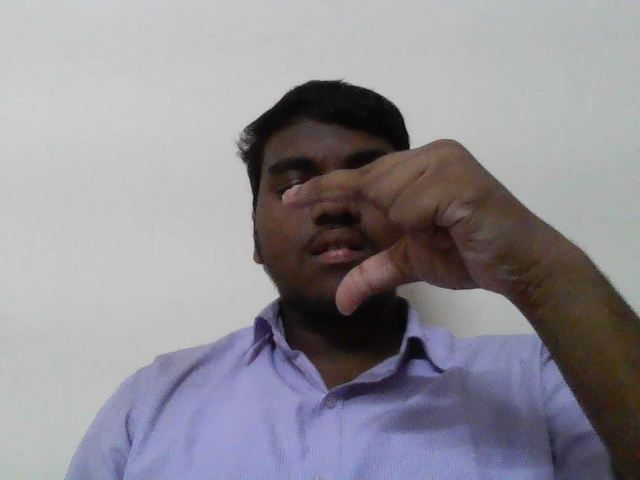No: (281, 133, 543, 325)
